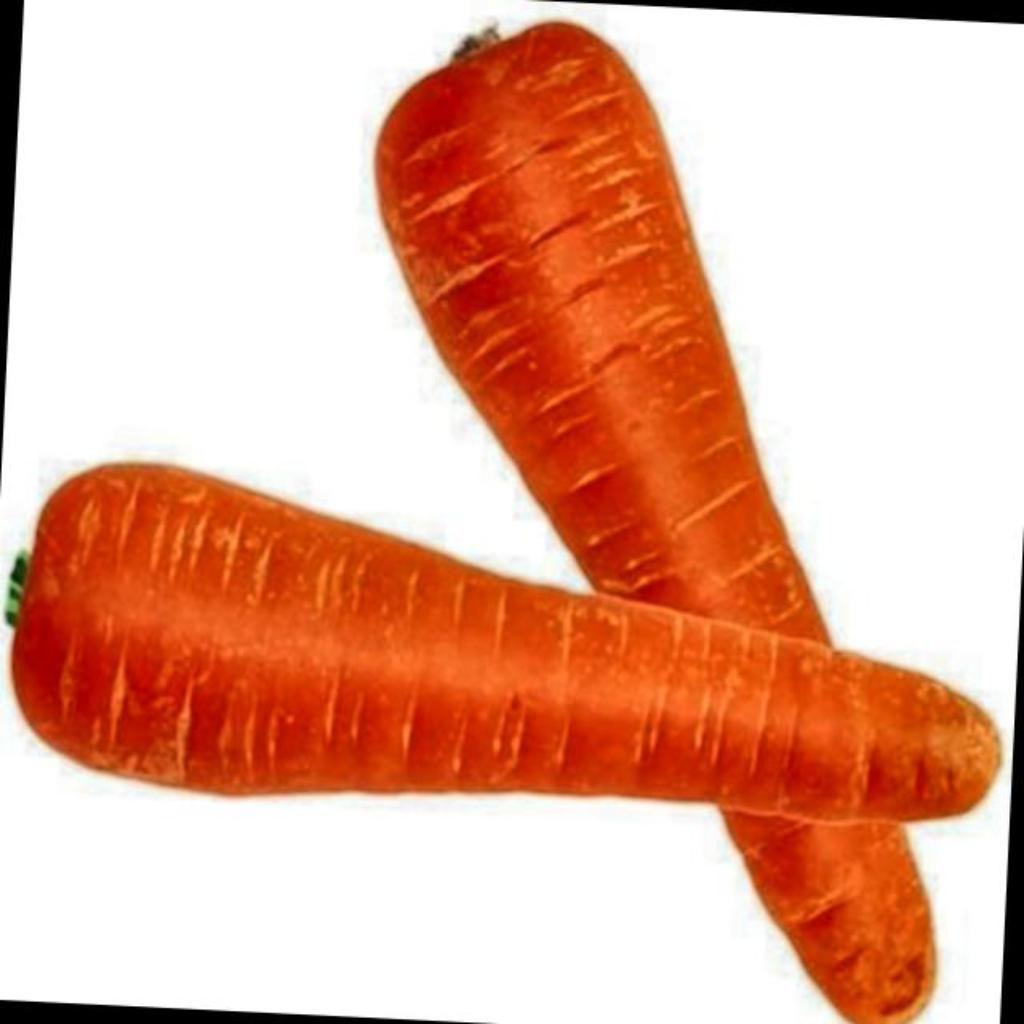carrot: (376, 24, 944, 1024), (14, 468, 998, 822)
